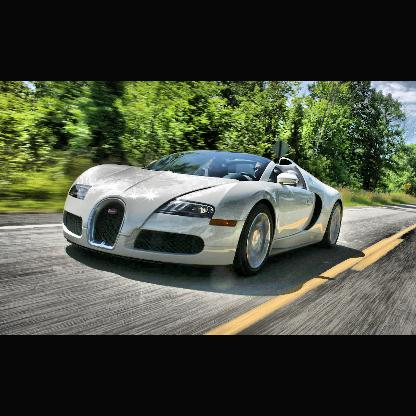Bugatti Veyron 16-4 Convertible 2009: (62, 151, 346, 271)
